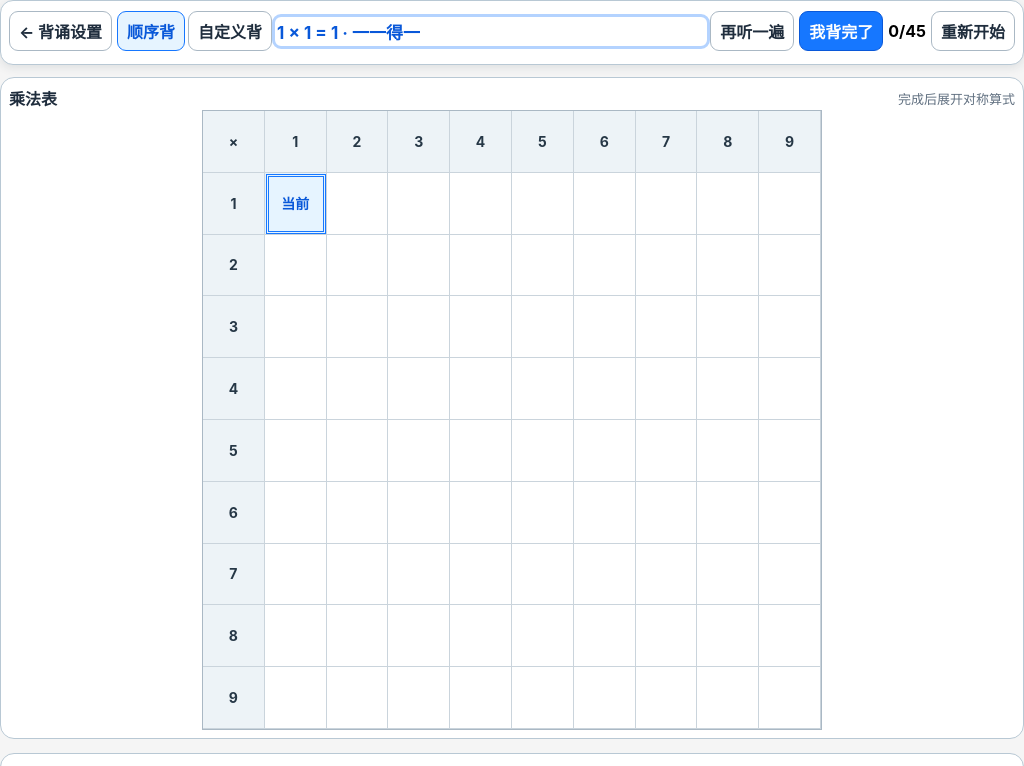
Test case: MultiplicationRecitation 顺序背与自定义背 › 确认时保存失败仍保留内存进度并提示
This screenshot has width=1024, height=766.
Click the button "我背完了". click: click(841, 31)
box: [799,11,883,51]
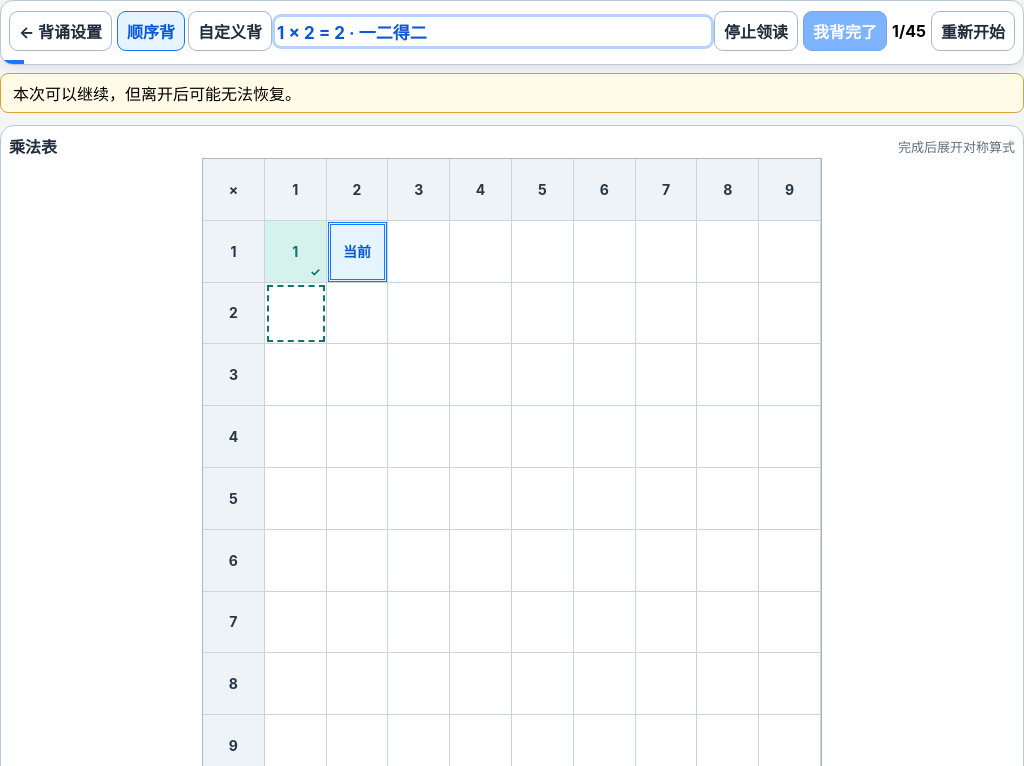
expect the text "1/45" is shown: met, box [892,21,926,41]
expect the message reads "本次可以继续，但离开后可能无法恢复。": met, box [13,84,301,104]
